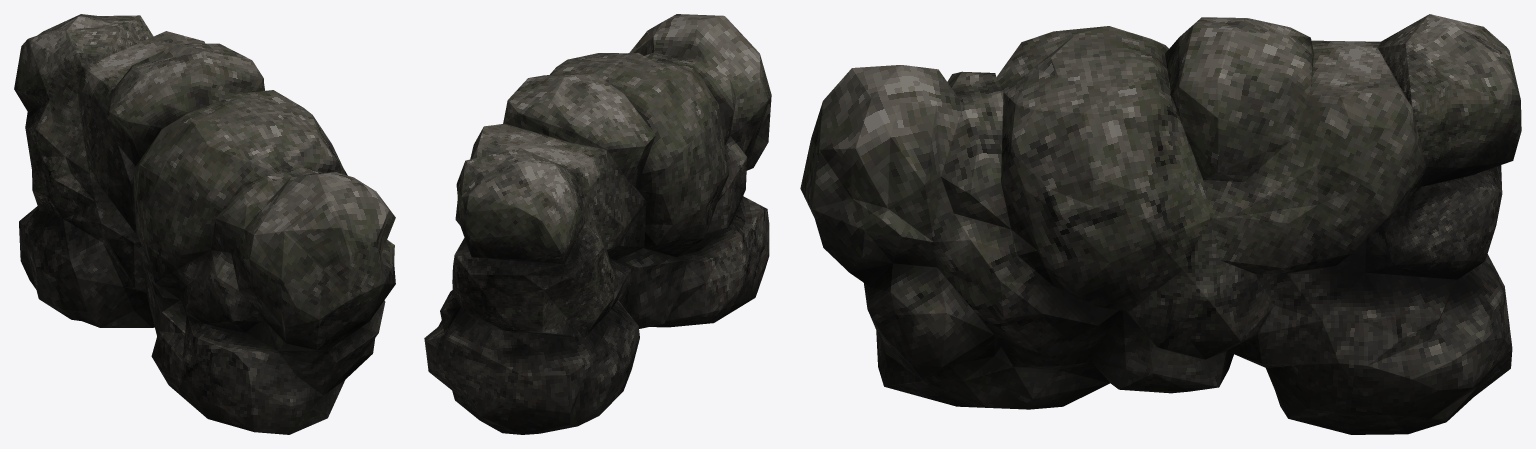
The model's file is rocks_big.glb.
The picture shows the model from 3 angles, left to right: view 1: azimuth 30°, elevation 25°; view 2: azimuth 150°, elevation 25°; view 3: azimuth 270°, elevation 25°; orthographic projection. The views are drawn at different scales.
Visible parts, largest first — view 1: rocks_big; view 2: rocks_big; view 3: rocks_big.
Part boxes in pixels (x1,y1,x2,y2): rocks_big: (14, 14, 395, 434); rocks_big: (424, 14, 771, 434); rocks_big: (800, 14, 1521, 434).
Size of the model in its own units: 9.78 by 14.28 by 23.56.
1 material, 1 textured.
